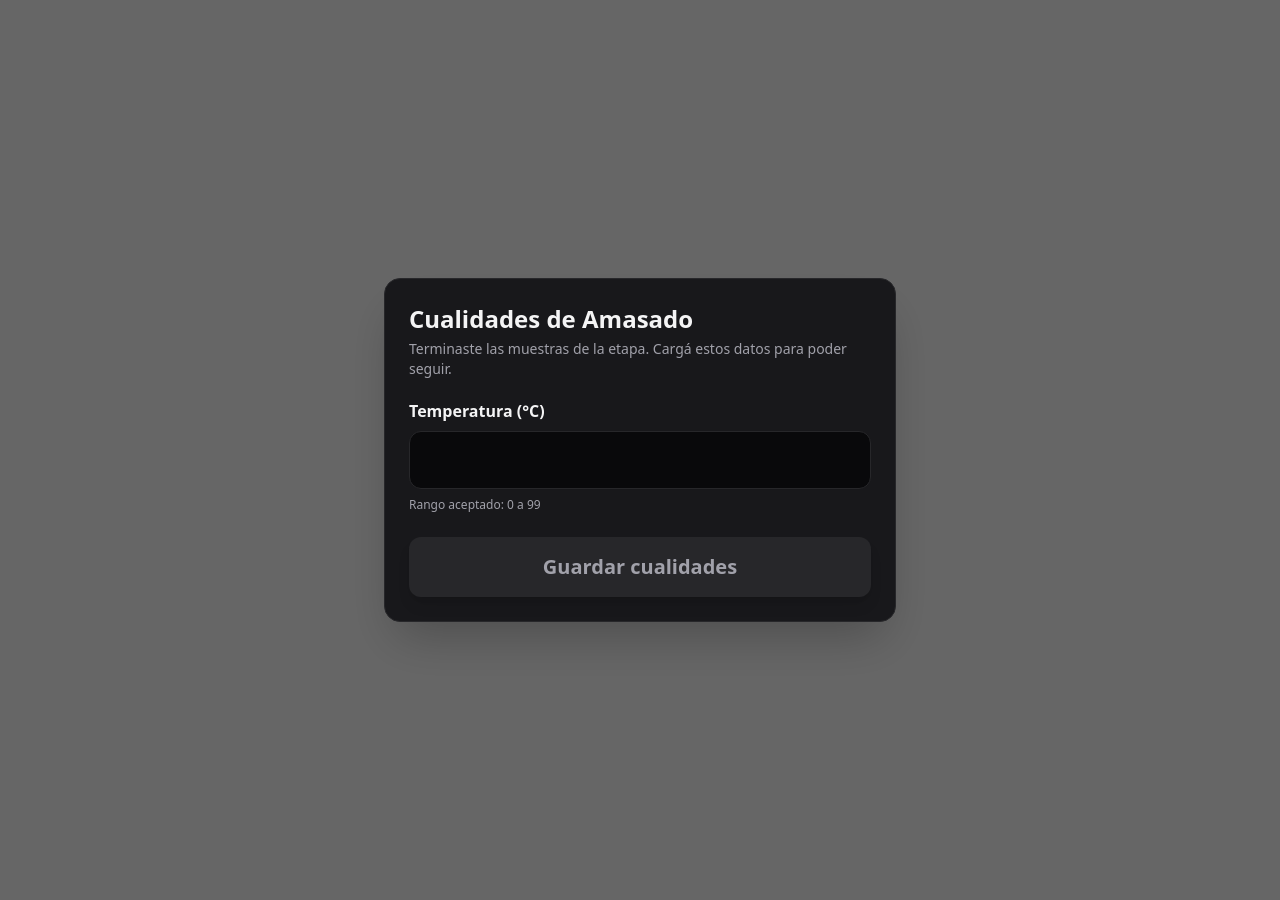
Test: CualidadesDialog › shows a number input with its accepted range for a numeric cualidad, and Guardar stays disabled until filled
expect the text "Rango aceptado: 0 a 99" is shown: met, box [409,496,541,513]
expect the button "Guardar cualidades" is disabled: met, box [409,537,871,597]
Type "37.5" into the number field named "Temperatura (°C)" at coordinates (640, 460), box [409,431,871,489]
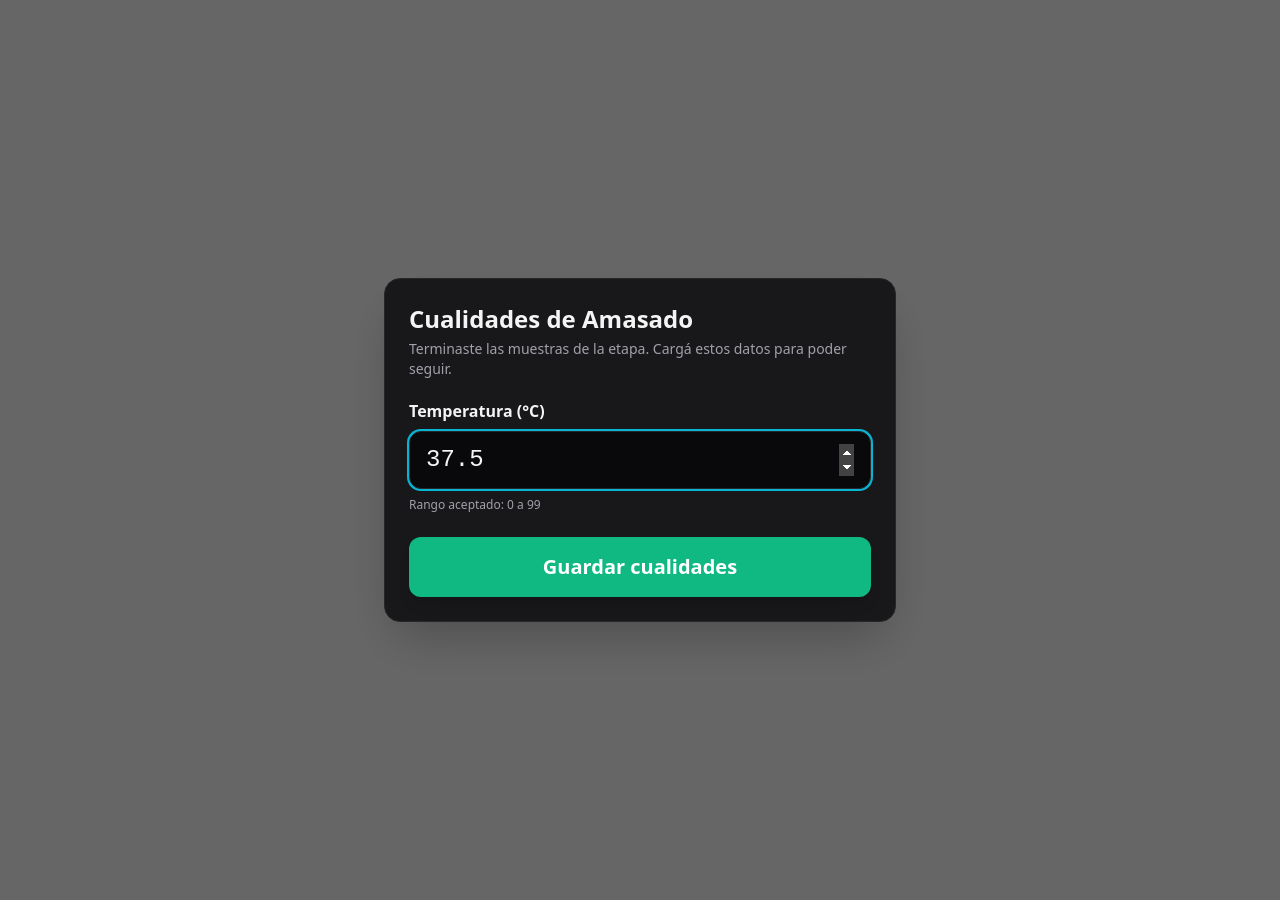
expect the button "Guardar cualidades" is enabled: met, box [409,537,871,597]
